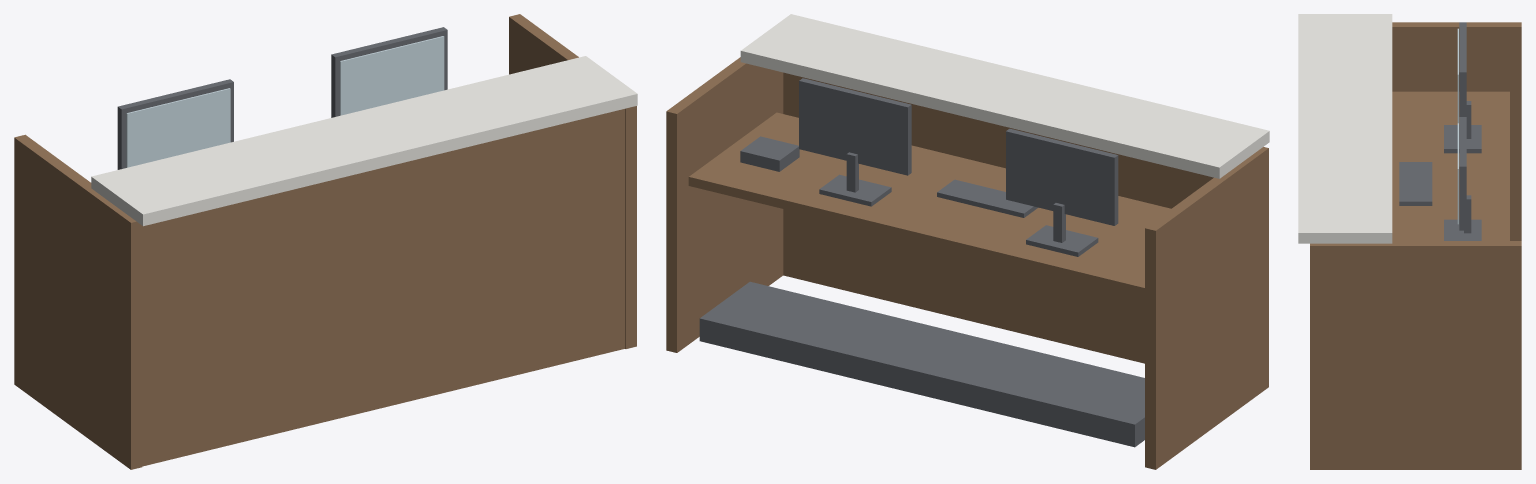
The model's file is bank-vault-heist-kit-security-desk-2aa20bc5__25079.glb.
3 views of the same model, side by side, from view 1: azimuth 30°, elevation 25°; view 2: azimuth 150°, elevation 25°; view 3: azimuth 270°, elevation 25° (orthographic). The views are drawn at different scales.
Parts seen in each view (by area): view 1: security-desk; view 2: security-desk; view 3: security-desk.
Part boxes in pixels (x1,y1,x2,y2): security-desk: [14, 14, 637, 469]; security-desk: [666, 14, 1269, 469]; security-desk: [1298, 14, 1521, 469].
Size of the model in its own units: 2.25 by 1.2 by 0.9499.
